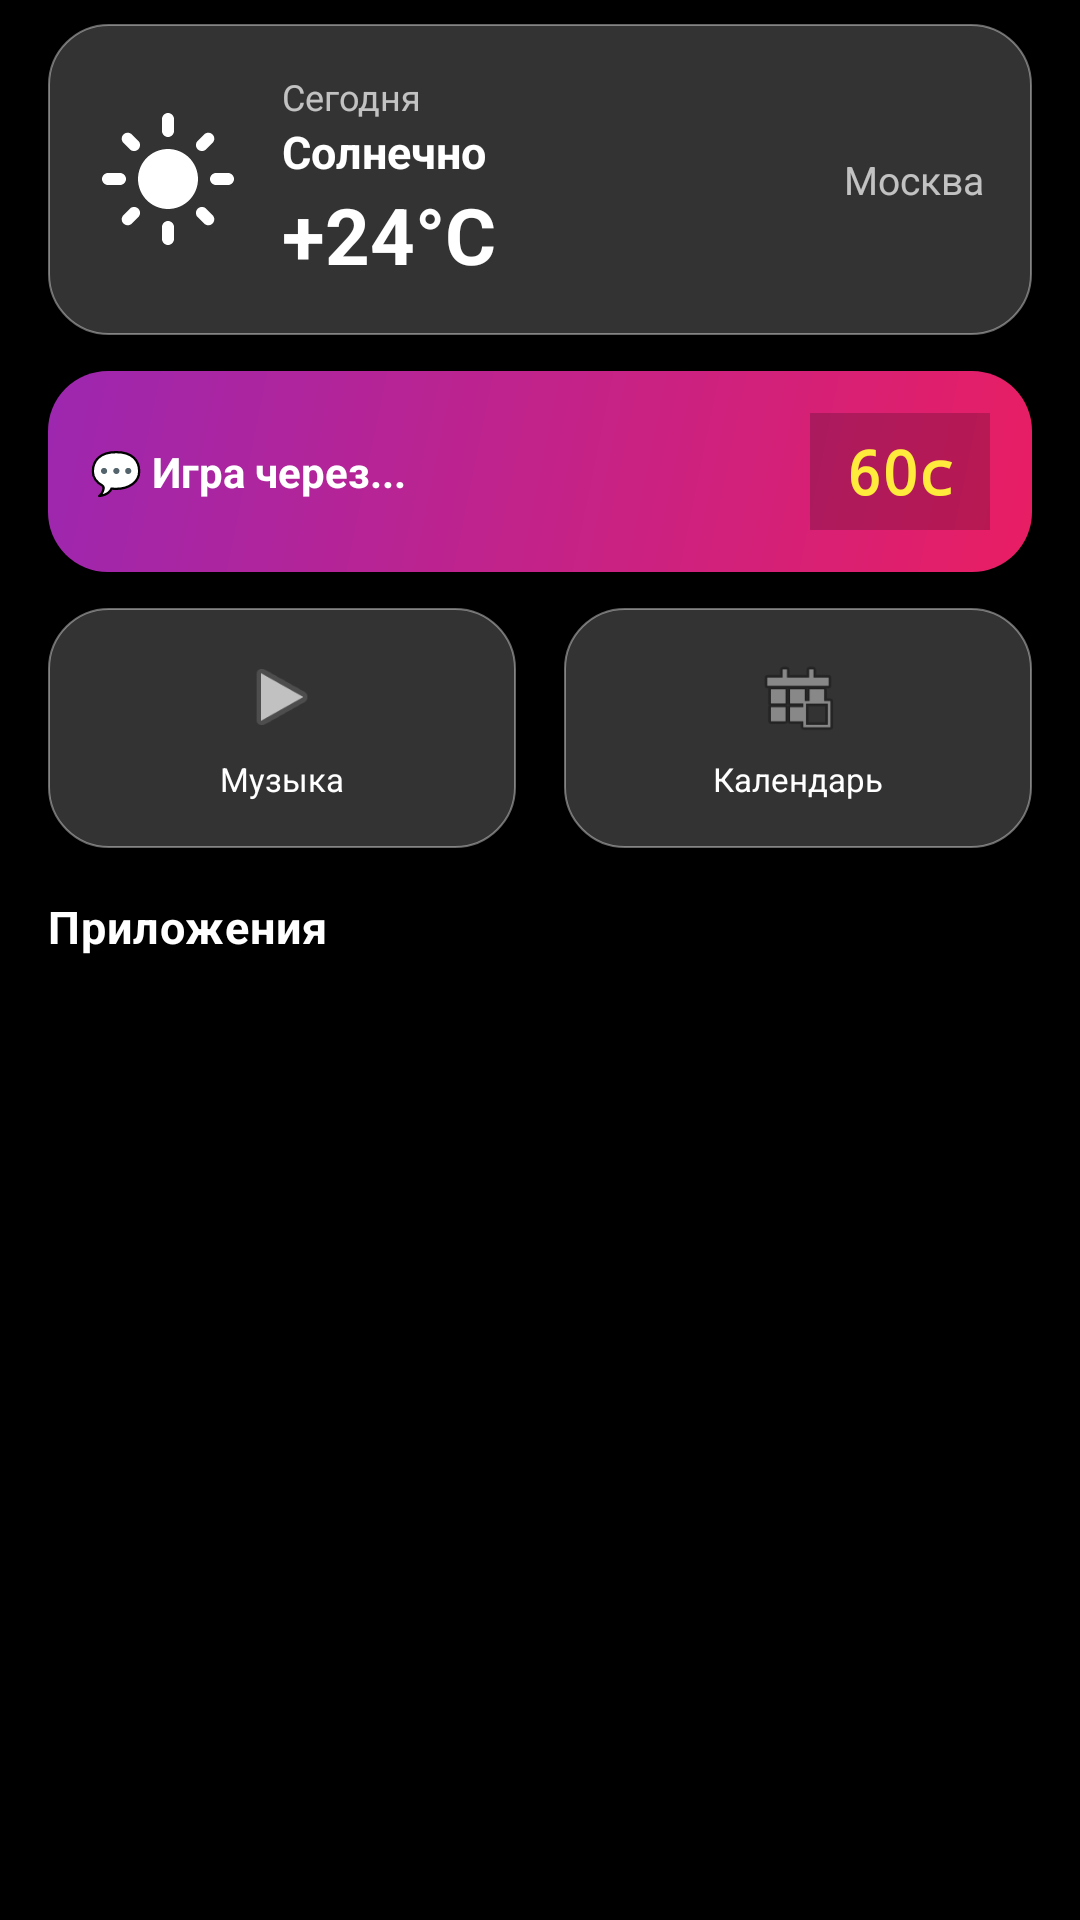

Point at icon controls on the screen. Image size 1080×1920, points as (x=x, y=y).
play: (x=282, y=697)
today: (x=799, y=698)
weather sunny: (x=168, y=179)
